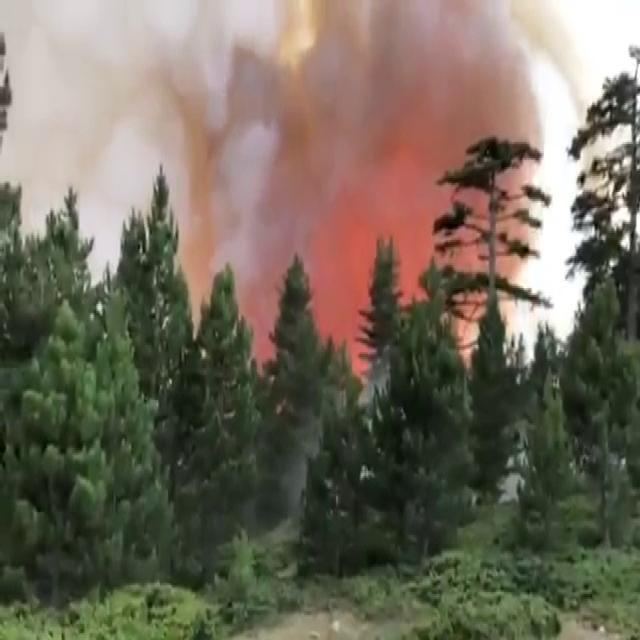Fire: (310, 178, 463, 348)
Smoke: (8, 5, 266, 268)
